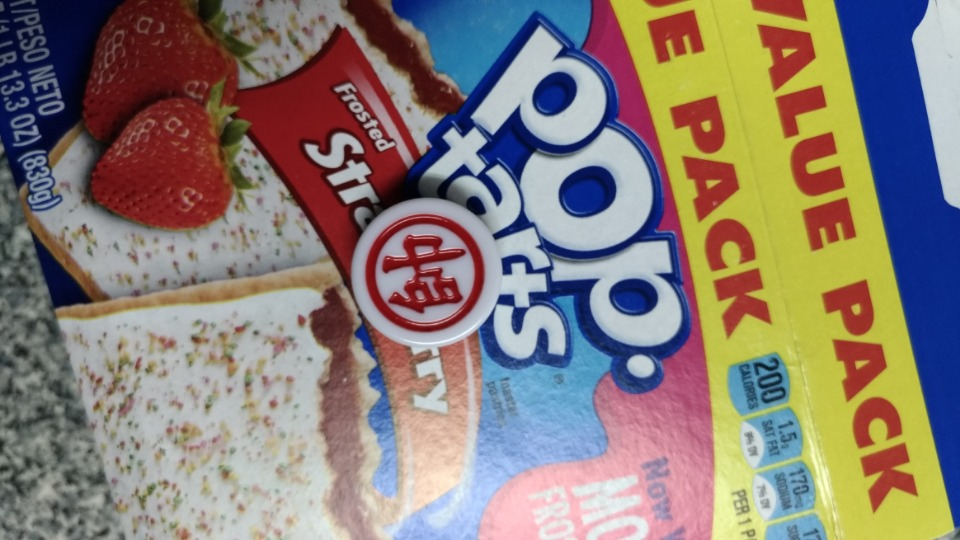r-king: (340, 186, 514, 357)
